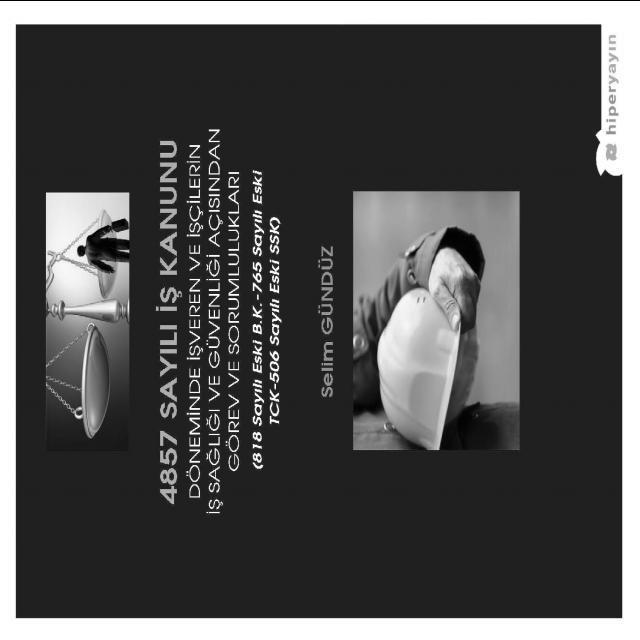safety_helmet: (378, 284, 463, 448)
